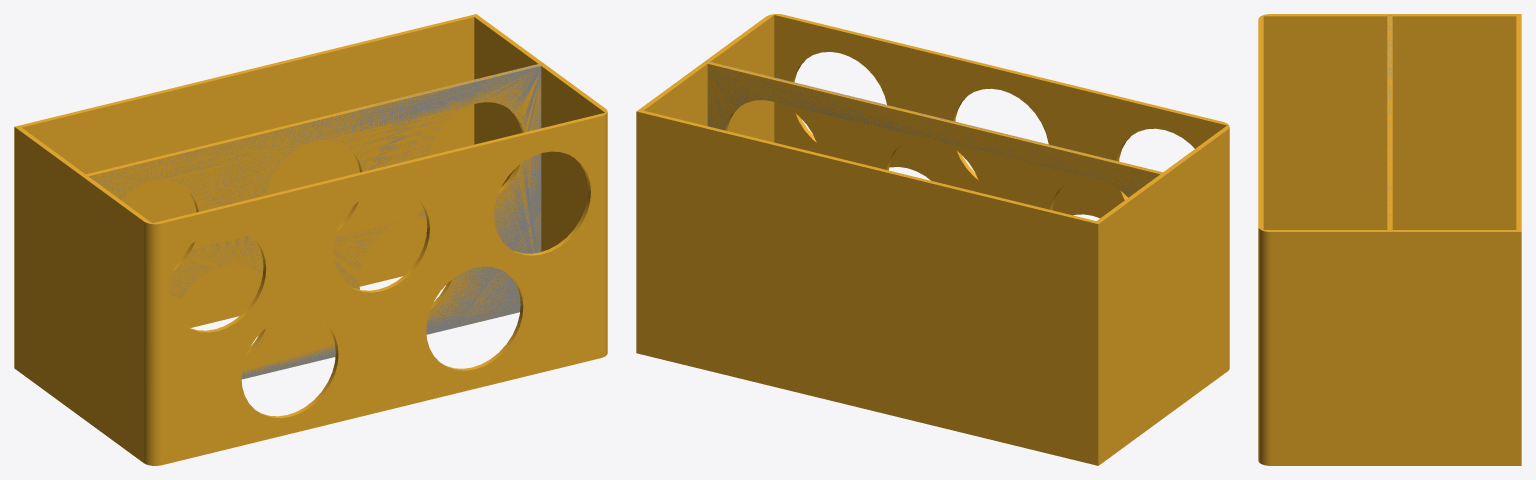
The model's file is flask_2v1.fbx.
The picture shows the model from 3 angles, left to right: view 1: azimuth 30°, elevation 25°; view 2: azimuth 150°, elevation 25°; view 3: azimuth 270°, elevation 25°; orthographic projection. The views are drawn at different scales.
Parts seen in each view (by area): view 1: Body1, Body7; view 2: Body1, Body7; view 3: Body1, Body7.
Boxes of the visible parts, x1,y1,x2,y2 form: Body1: (14, 14, 607, 465); Body7: (90, 63, 543, 379); Body1: (636, 14, 1229, 465); Body7: (705, 61, 1164, 195); Body1: (1258, 14, 1521, 465); Body7: (1387, 14, 1392, 227).
Size of the model in its own units: 100 by 50 by 51.
